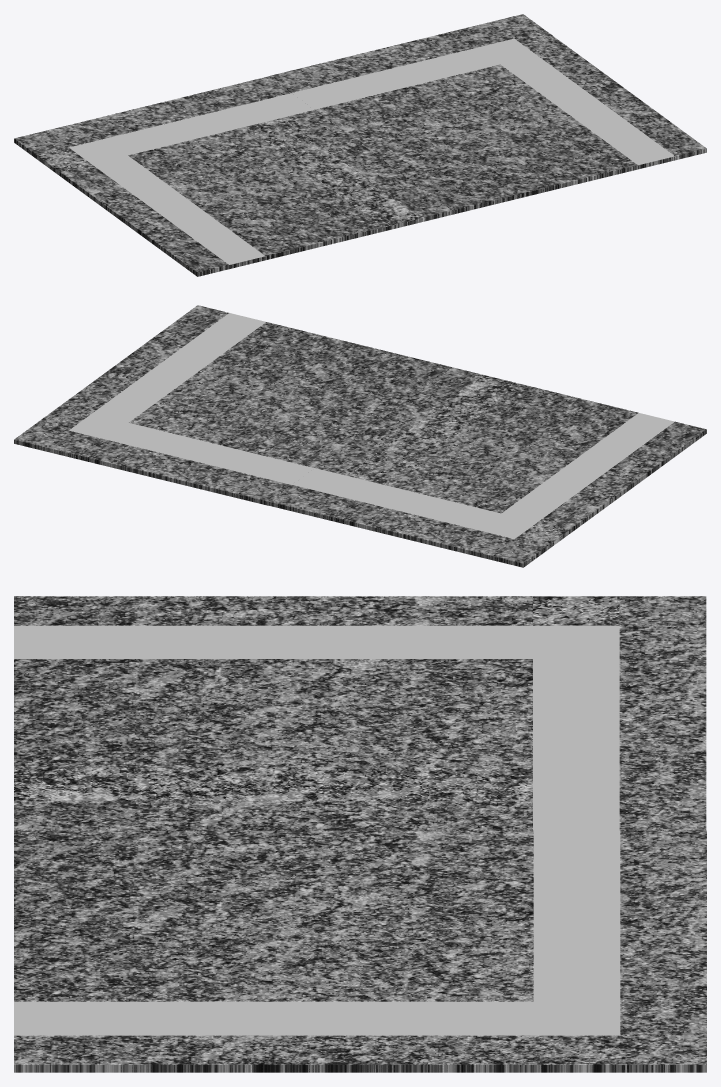
The model's file is PISO COLEGIO.fbx.
3 renders of one model, top to bottom at view 1: azimuth 30°, elevation 25°; view 2: azimuth 150°, elevation 25°; view 3: azimuth 270°, elevation 25°, orthographic. The views are drawn at different scales.
Visible parts, largest first — view 1: PISO.001; view 2: PISO.001; view 3: PISO.001.
Part boxes in pixels (box(x1,y1,x2,y2)): PISO.001: box(14, 14, 706, 276); PISO.001: box(14, 305, 706, 567); PISO.001: box(14, 596, 706, 1072).
Size of the model in its own units: 8244 by 63.39 by 5152.
